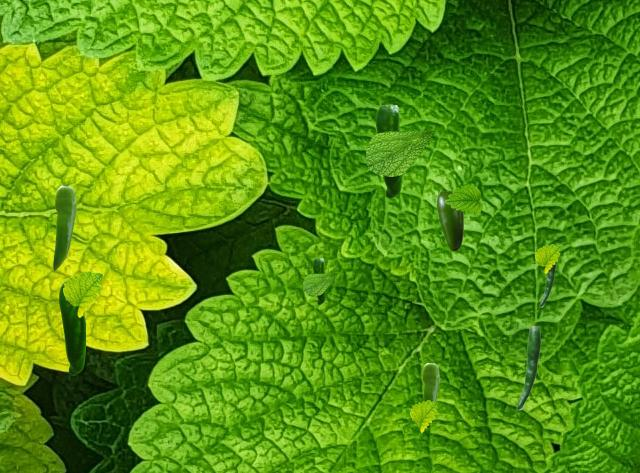green_chili: (376, 105, 401, 197), (59, 282, 84, 374), (516, 326, 539, 409), (53, 186, 75, 269), (437, 191, 462, 250), (539, 265, 555, 306), (422, 363, 438, 400), (313, 258, 324, 303)
